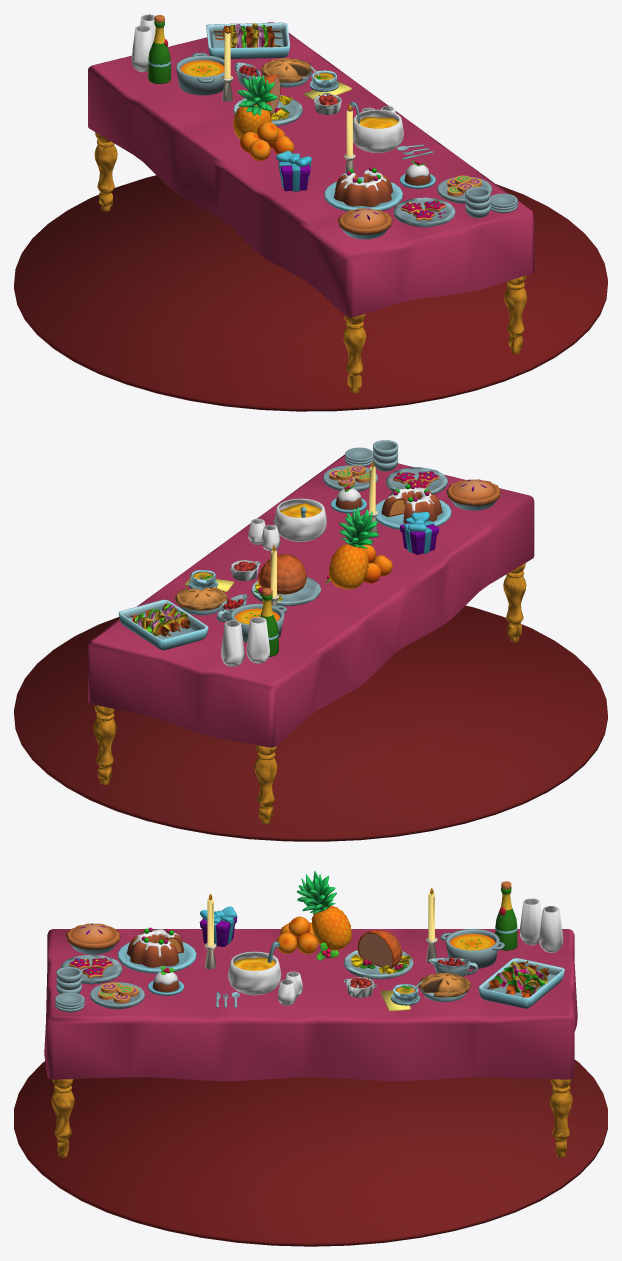
Rendered from Table.fbx.
3 views of the same model, one above another, from view 1: azimuth 30°, elevation 25°; view 2: azimuth 150°, elevation 25°; view 3: azimuth 270°, elevation 25° (orthographic).
Visible parts, largest first — view 1: Table, Pineapple, Kebab, Punch, Soup.001, Cake.001, Plate.002, Pie, Shampagne, Gift, Pie.001, Plate.003 (+7 smaller); view 2: Table, Pineapple, Kebab, Punch, Cake.001, Pie, Meat, Gift, Plate.002, Pie.001, Plate.003, Glass.002 (+8 smaller); view 3: Table, Pineapple, Kebab, Punch, Cake.001, Soup.001, Pie, Meat, Plate.002, Pie.001, Plate.003, Plate (+13 smaller).
Boxes of the visible parts, x1,y1,x2,y2 form: Table: (14,22,607,411); Pineapple: (233,75,294,160); Kebab: (206,22,289,59); Punch: (349,102,403,152); Soup.001: (176,52,224,95); Cake.001: (334,167,392,206); Plate.002: (393,197,455,227); Pie: (338,208,392,239); Shampagne: (148,15,170,83); Gift: (276,151,311,191); Pie.001: (261,58,313,87); Plate.003: (437,175,492,203); Table: (14,454,607,841); Pineapple: (326,507,392,589); Kebab: (118,599,208,650); Punch: (274,498,326,541); Cake.001: (381,484,442,523); Pie: (446,479,501,510); Meat: (258,554,306,594); Gift: (400,512,439,554); Plate.002: (386,467,447,494); Pie.001: (174,587,227,615); Plate.003: (323,465,377,491); Glass.002: (221,620,244,666); Table: (14,929,607,1246); Pineapple: (276,870,351,960); Kebab: (478,958,564,1008); Punch: (228,941,281,995); Cake.001: (127,927,183,967); Soup.001: (440,928,504,968); Pie: (66,923,120,954); Meat: (357,930,402,968); Plate.002: (60,954,122,984); Pie.001: (418,972,470,1001); Plate.003: (90,982,144,1009); Plate: (344,950,413,979).
Bounding box in the file's own units: 3.55 × 1.46 × 3.55.
